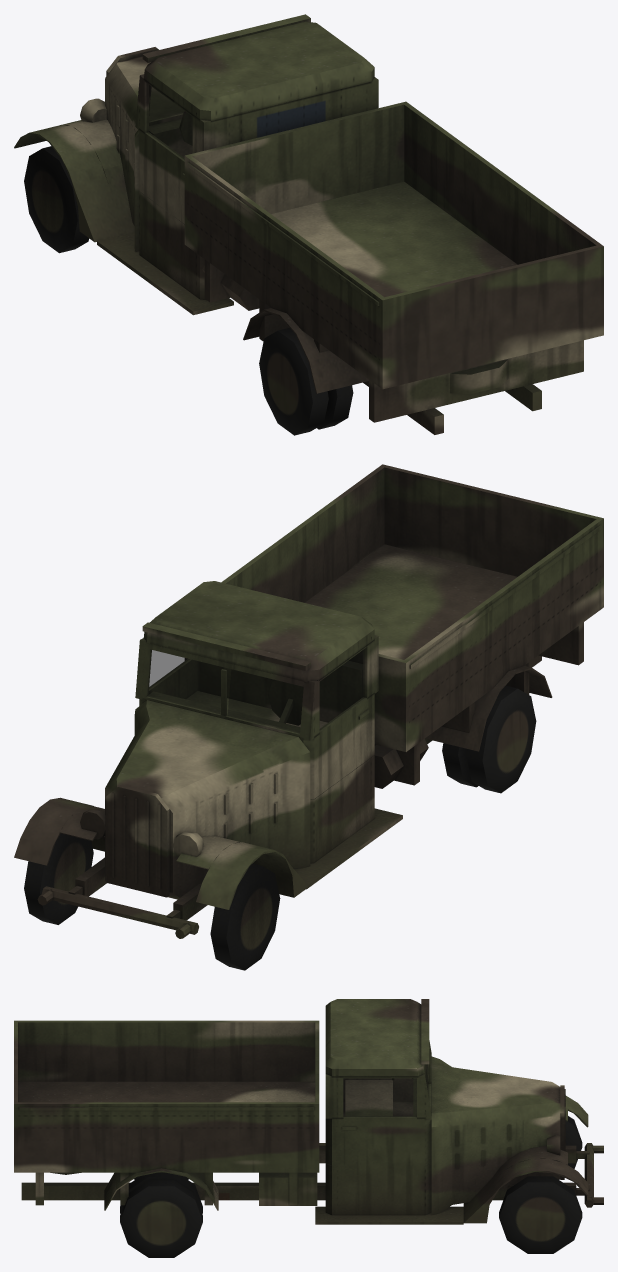
Rendered from PF621L_OPEN_MID.fbx.
3 renders of one model, top to bottom at view 1: azimuth 30°, elevation 25°; view 2: azimuth 150°, elevation 25°; view 3: azimuth 270°, elevation 25°, orthographic. The views are drawn at different scales.
Visible parts, largest first — view 1: Chassis, Roue_02, Roue_Gauche_01; view 2: Chassis, Roue_02, Roue_Gauche_01, Roue_Droite_01; view 3: Chassis, Roue_02, Roue_Droite_01, Roue_Gauche_01.
Boxes of the visible parts, bbox=[...] form: Chassis: bbox=[14, 14, 603, 434]; Roue_02: bbox=[259, 327, 353, 435]; Roue_Gauche_01: bbox=[24, 146, 89, 253]; Chassis: bbox=[14, 464, 603, 938]; Roue_02: bbox=[442, 685, 536, 793]; Roue_Gauche_01: bbox=[210, 863, 280, 970]; Roue_Droite_01: bbox=[24, 833, 93, 924]; Chassis: bbox=[14, 999, 603, 1224]; Roue_02: bbox=[120, 1172, 202, 1257]; Roue_Droite_01: bbox=[499, 1176, 582, 1253]; Roue_Gauche_01: bbox=[565, 1116, 582, 1168].
Size of the model in its own units: 202 by 568 by 198.
2 materials, 1 textured.
